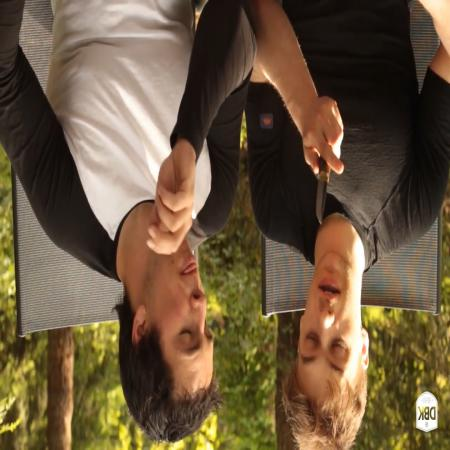long weapon: (300, 112, 350, 232)
